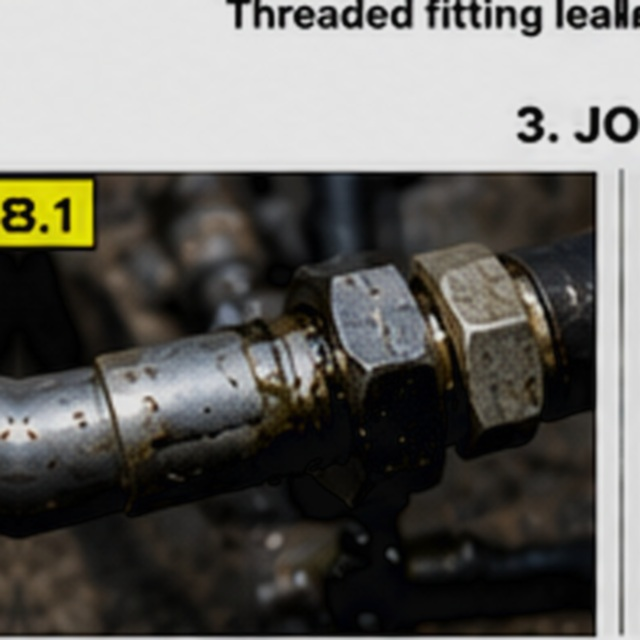hydraulic_oil_leak: (186, 251, 495, 457)
